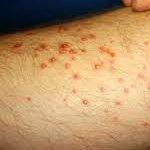Ants: (96, 44, 117, 59), (59, 43, 77, 55), (10, 40, 24, 52), (136, 72, 150, 84), (32, 42, 48, 52), (45, 55, 59, 66), (39, 60, 50, 70), (71, 71, 80, 81), (98, 86, 107, 95), (95, 64, 107, 70), (57, 26, 69, 32), (72, 24, 81, 31), (122, 87, 130, 94), (78, 36, 88, 41), (114, 100, 122, 106), (112, 115, 120, 121), (70, 89, 79, 94), (64, 62, 70, 69), (143, 41, 149, 48), (143, 121, 149, 128), (82, 100, 88, 105), (89, 33, 95, 38), (103, 109, 110, 113), (80, 49, 85, 52)
